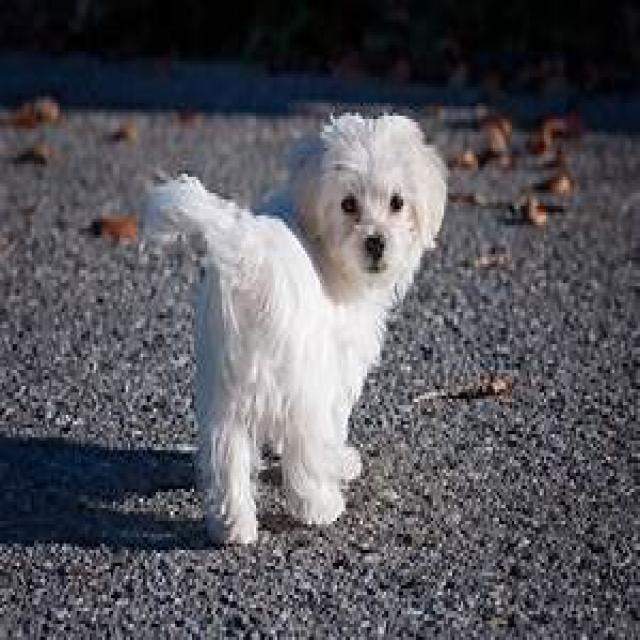dog: (155, 117, 445, 542)
